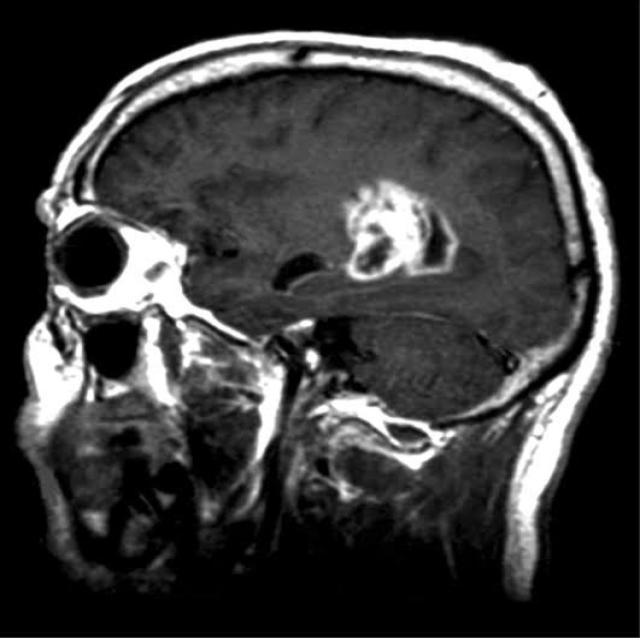glioma: (340, 178, 464, 284)
